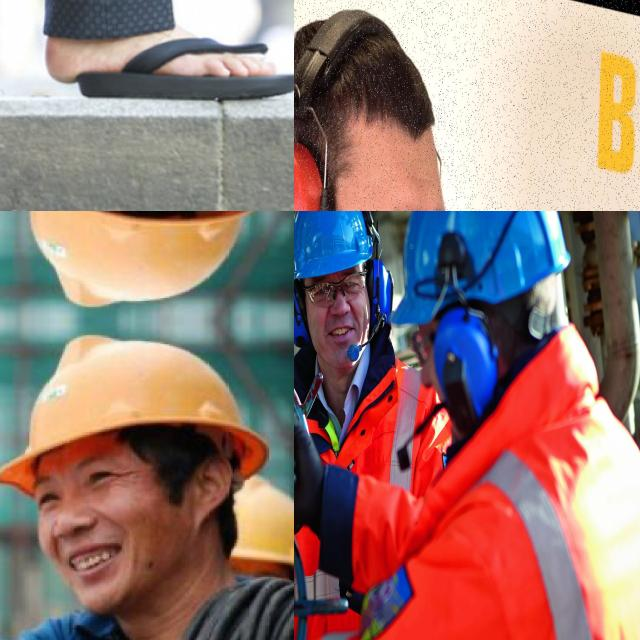Ear-protection: (294, 0, 456, 211)
No_Ear-Protection: (184, 458, 232, 520)
No_Glasses: (28, 452, 174, 514)
Sandals: (43, 0, 294, 98)
face_nomask: (38, 500, 199, 615), (304, 272, 371, 368)
glasses: (303, 274, 369, 311)
hand_glove: (294, 393, 323, 513)
head_helmet: (0, 335, 268, 495), (393, 211, 576, 324), (294, 211, 375, 276)
person: (395, 214, 640, 640), (294, 211, 419, 491)
vest: (294, 397, 640, 640), (294, 359, 423, 626)
